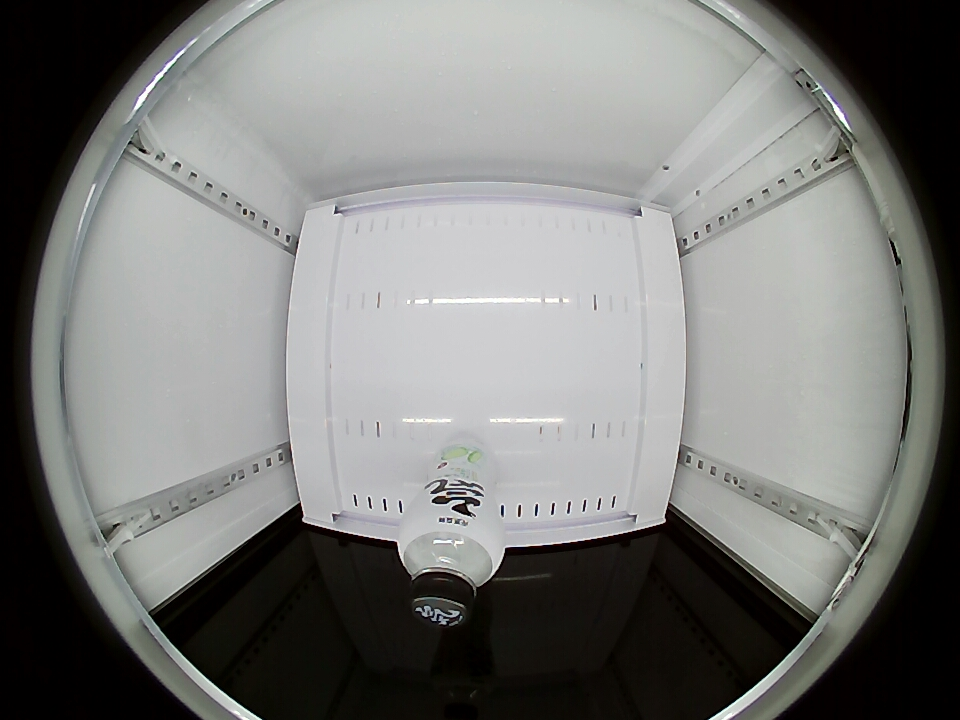yuanqishui: (397, 506, 506, 628)
